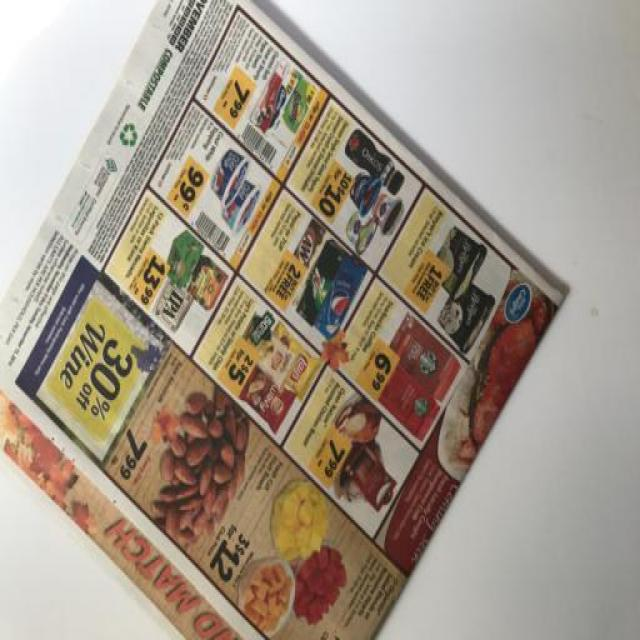paper: (1, 1, 599, 640)
